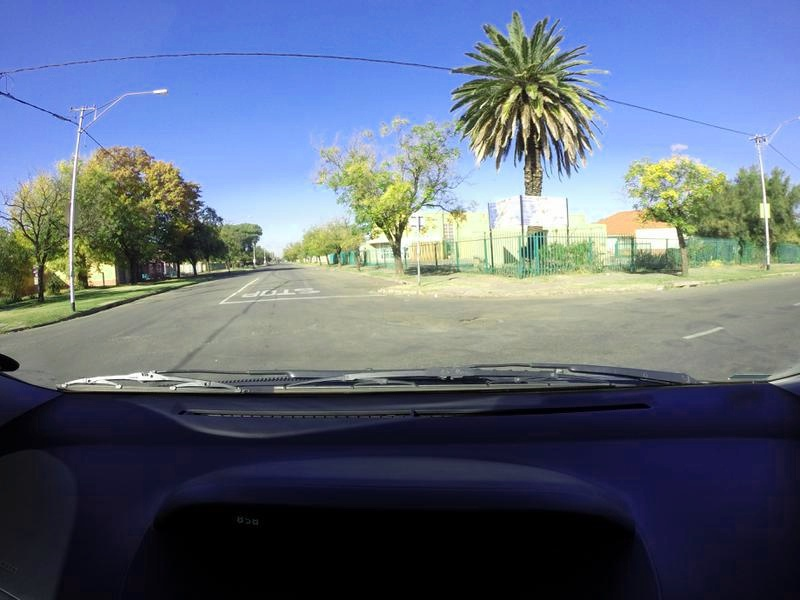pothole: (462, 310, 494, 329)
